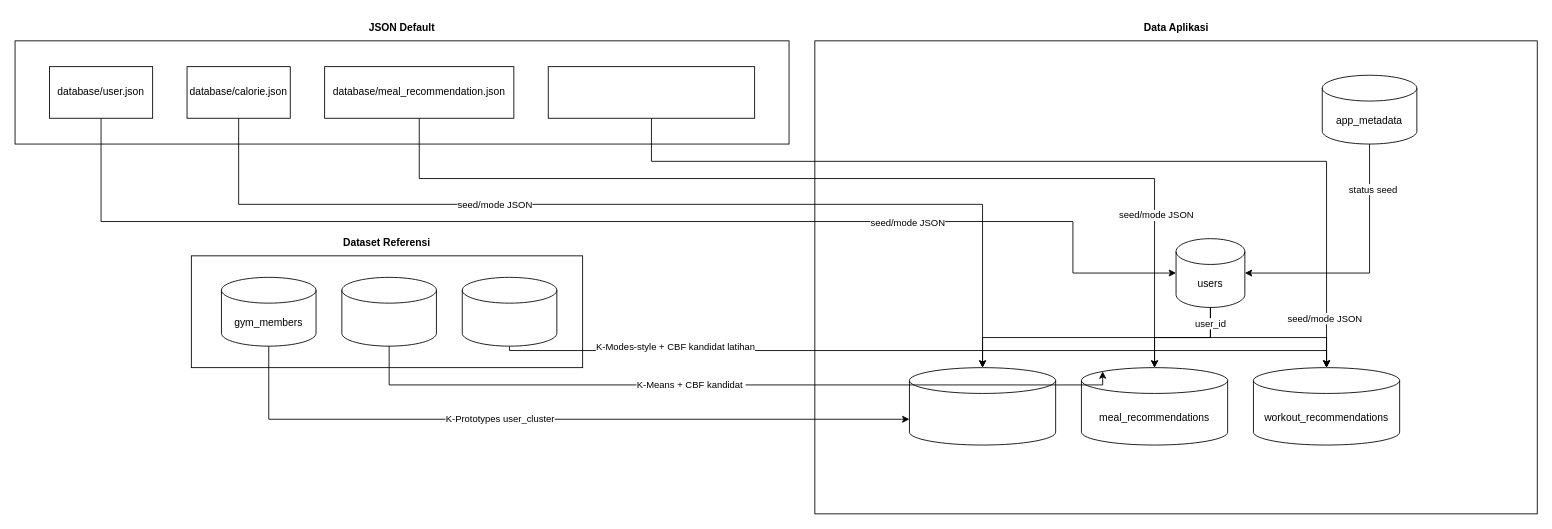
The diagram is 1552 pixels wide and 529 high, and some of its shapes have lost their labels. Here are the shapes that lost their labels. From the top down, the centre of each, then its label:
the point at 651,92: database/workout_recommendation.json
the point at 388,311: food_nutrition
the point at 509,311: training_program
the point at 982,406: calorie_records
